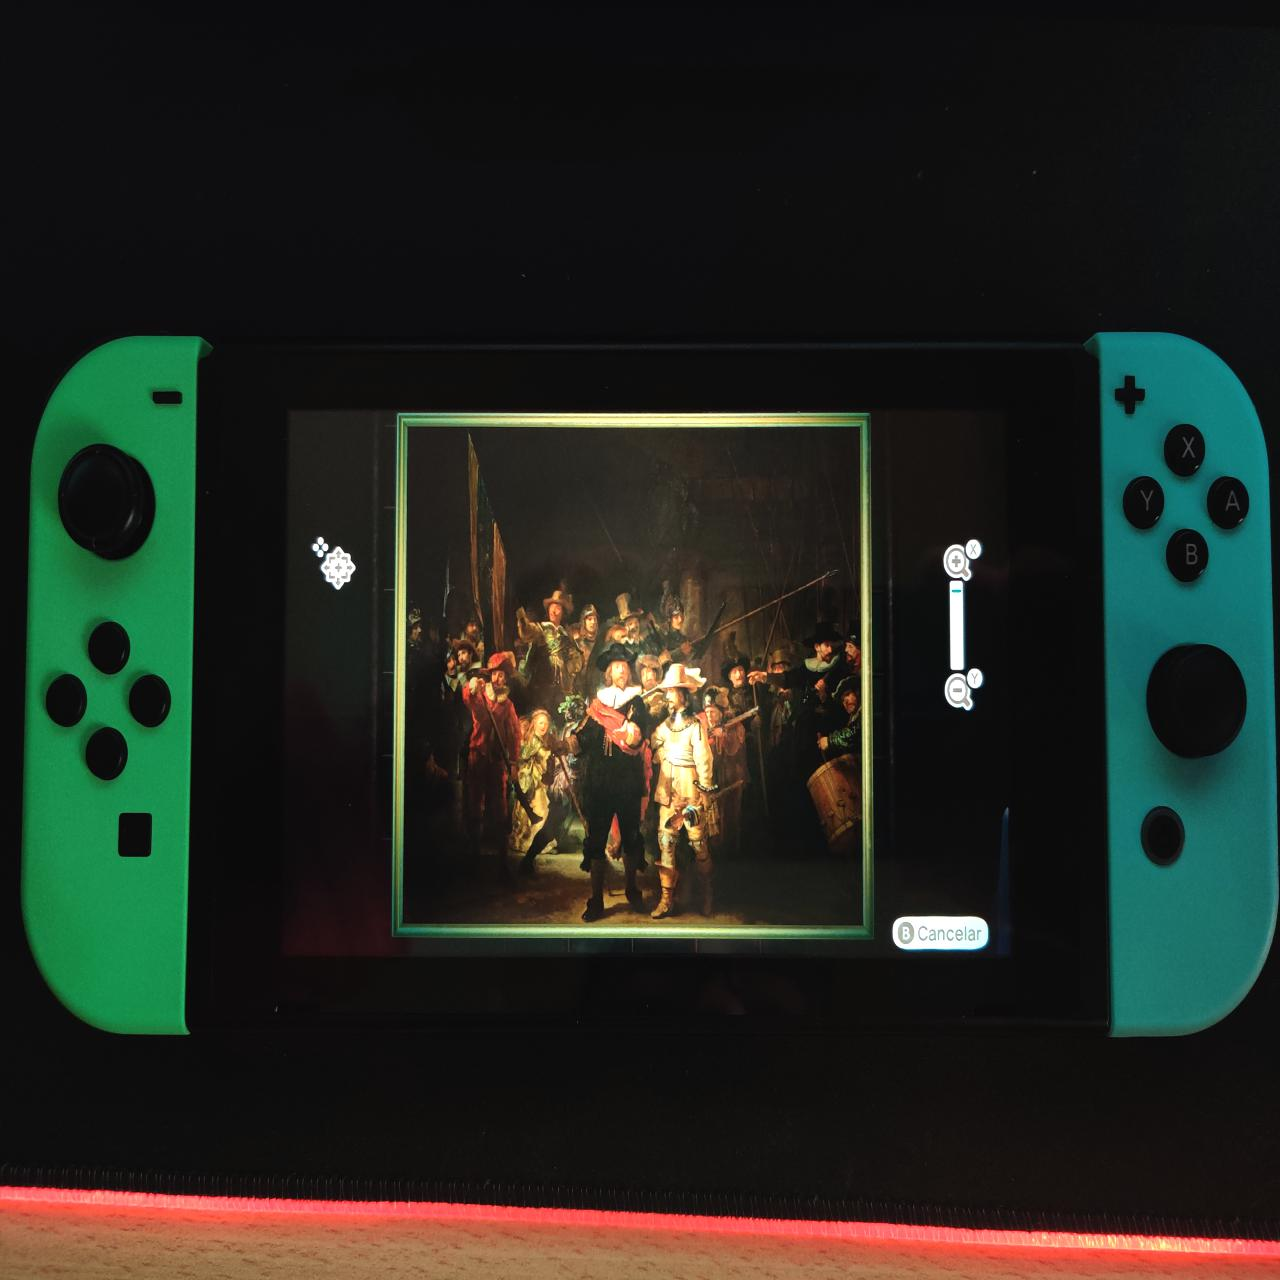NightWatch: (410, 429, 863, 927)
